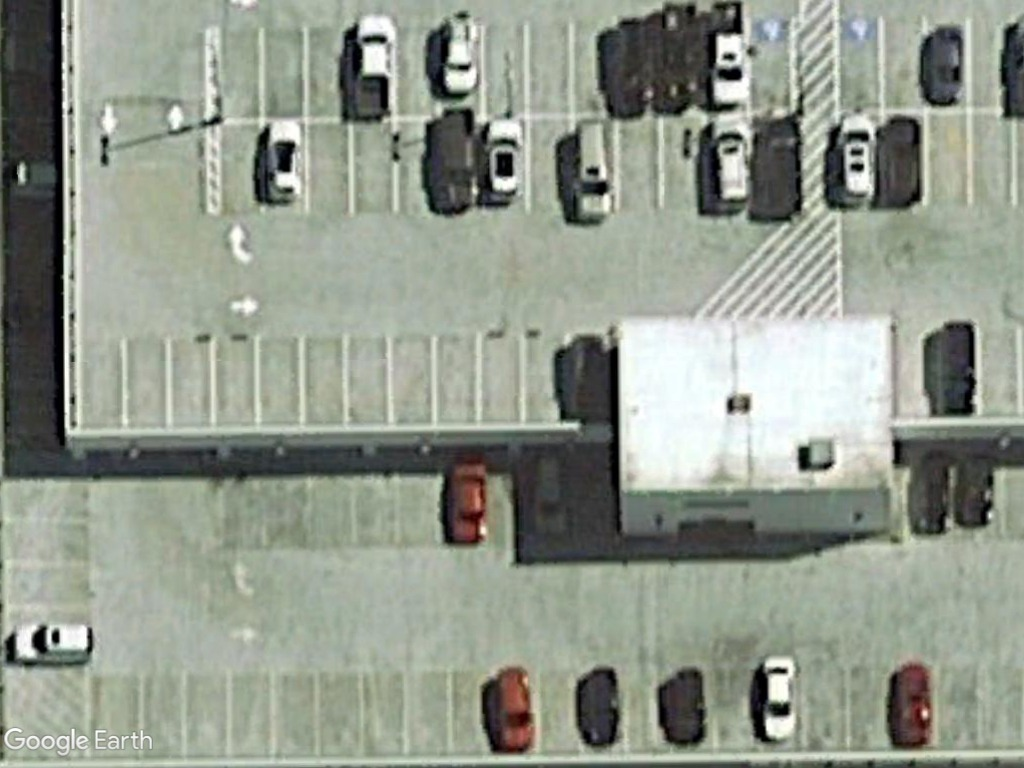car: (568, 114, 619, 226), (707, 115, 758, 217), (490, 661, 540, 757), (833, 112, 879, 214), (444, 453, 491, 547), (260, 113, 306, 207), (757, 652, 803, 745), (4, 623, 99, 667), (481, 115, 526, 206)
other: (350, 11, 400, 123)
